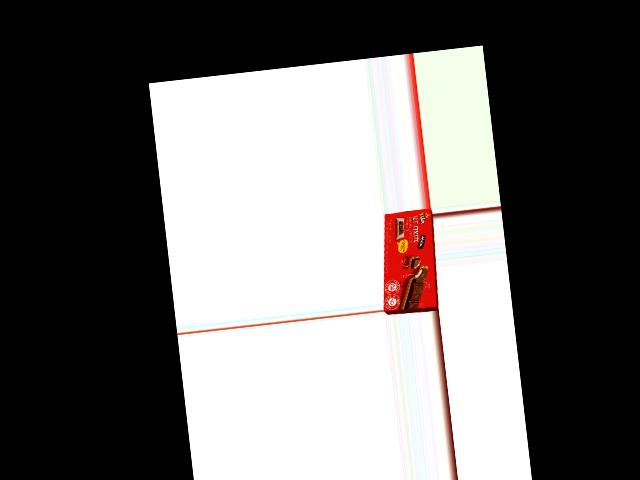chocolate: (378, 207, 439, 314)
